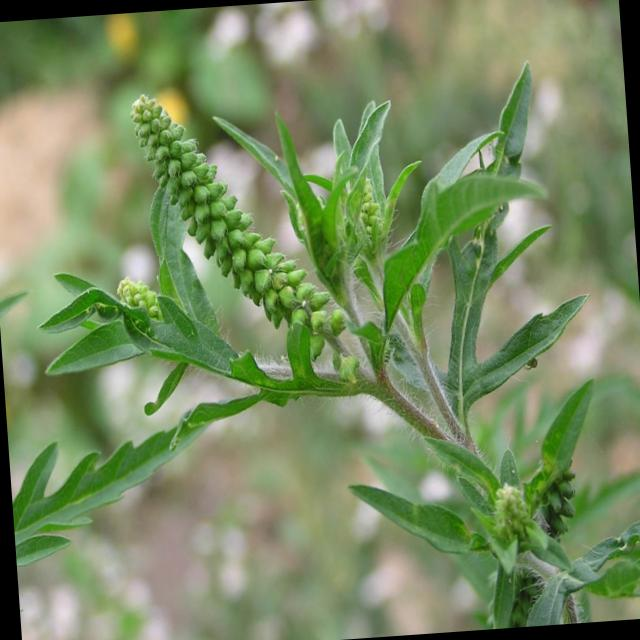ambrosia: (80, 55, 412, 402), (432, 400, 640, 631)
